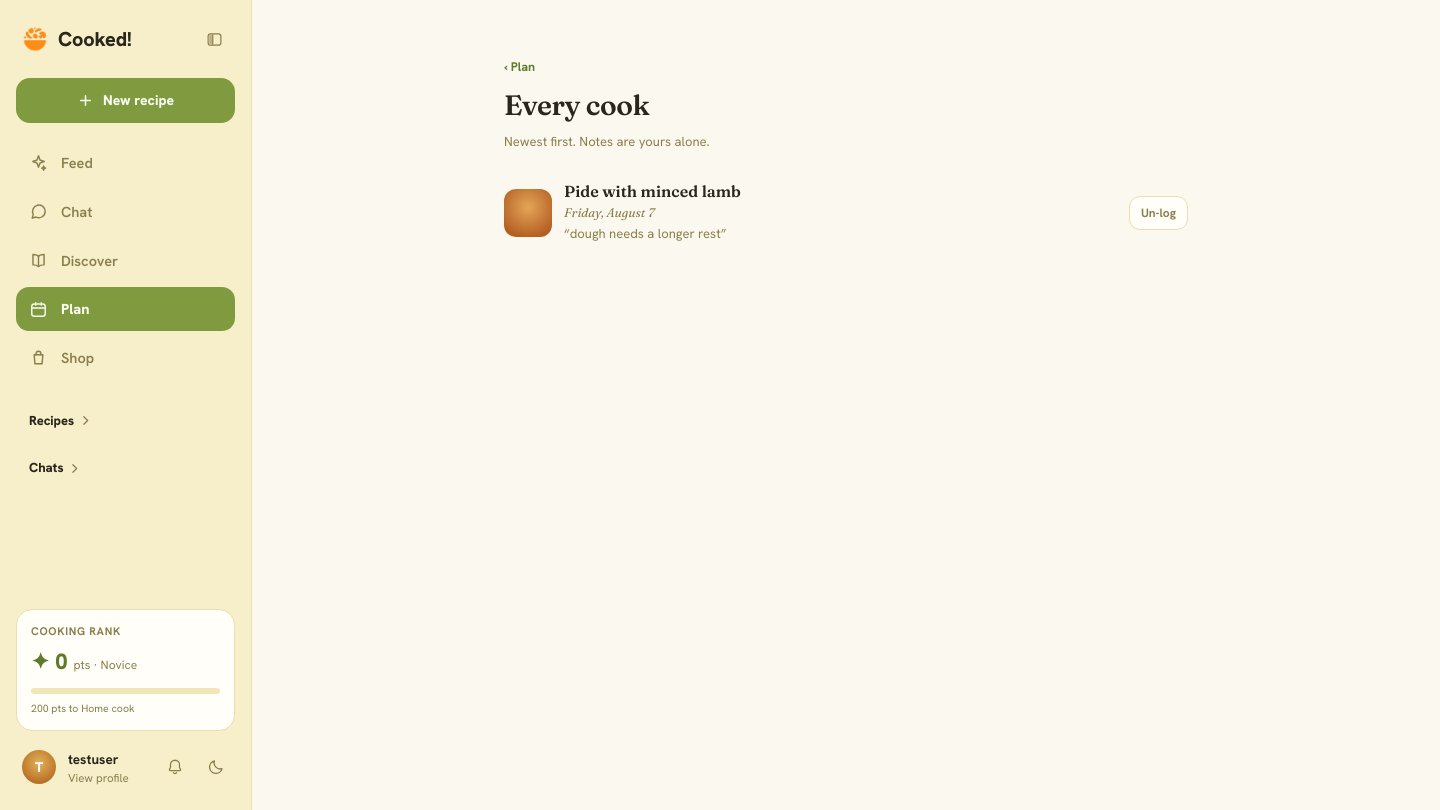
/plan/cooks › un-logging one cook › removes the annotated cook once the loss is confirmed
Click the button with aria-label "Un-log Pide".
click(1158, 213)  # box [1129, 196, 1188, 230]
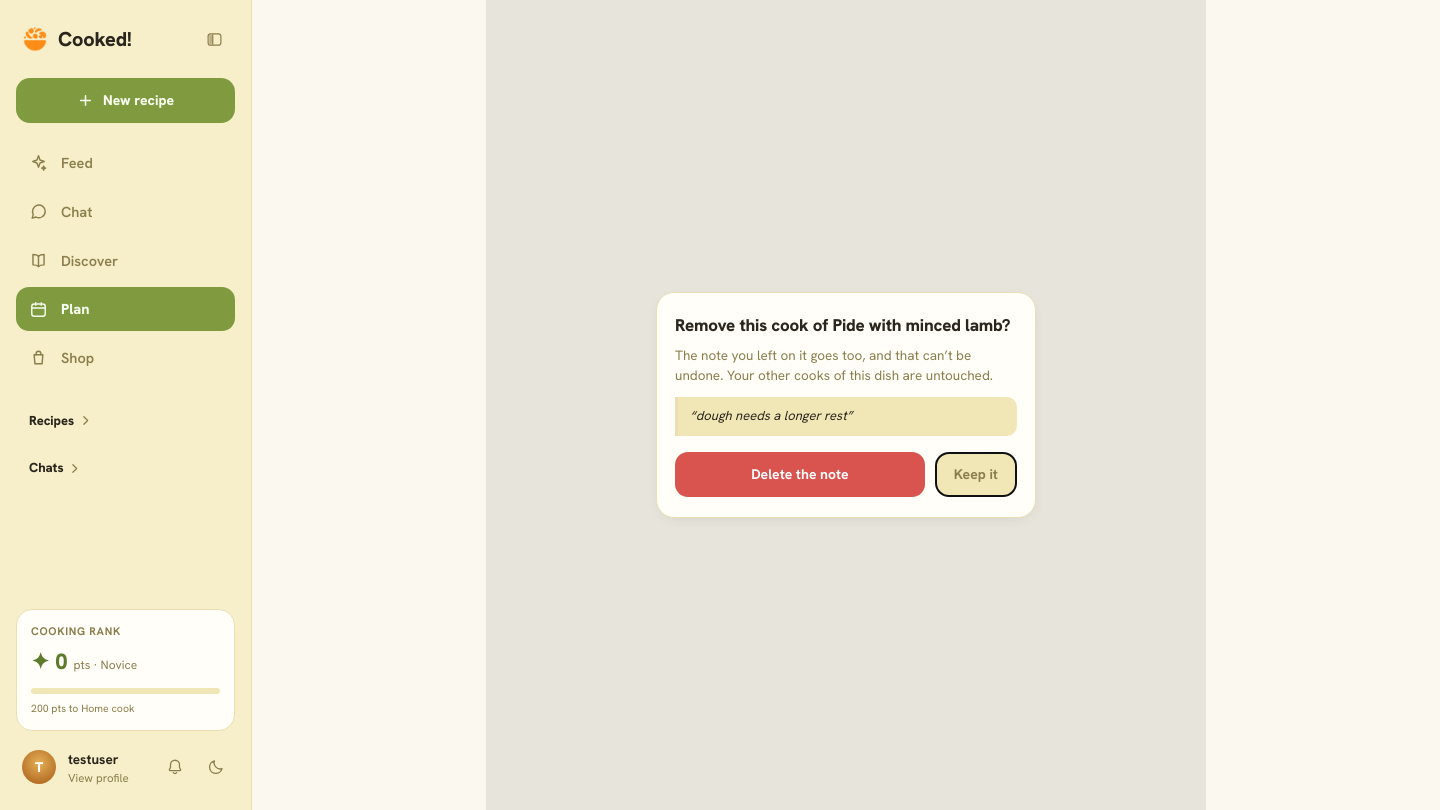
Click the button "Delete the note".
click(800, 474)  # box [675, 452, 925, 497]
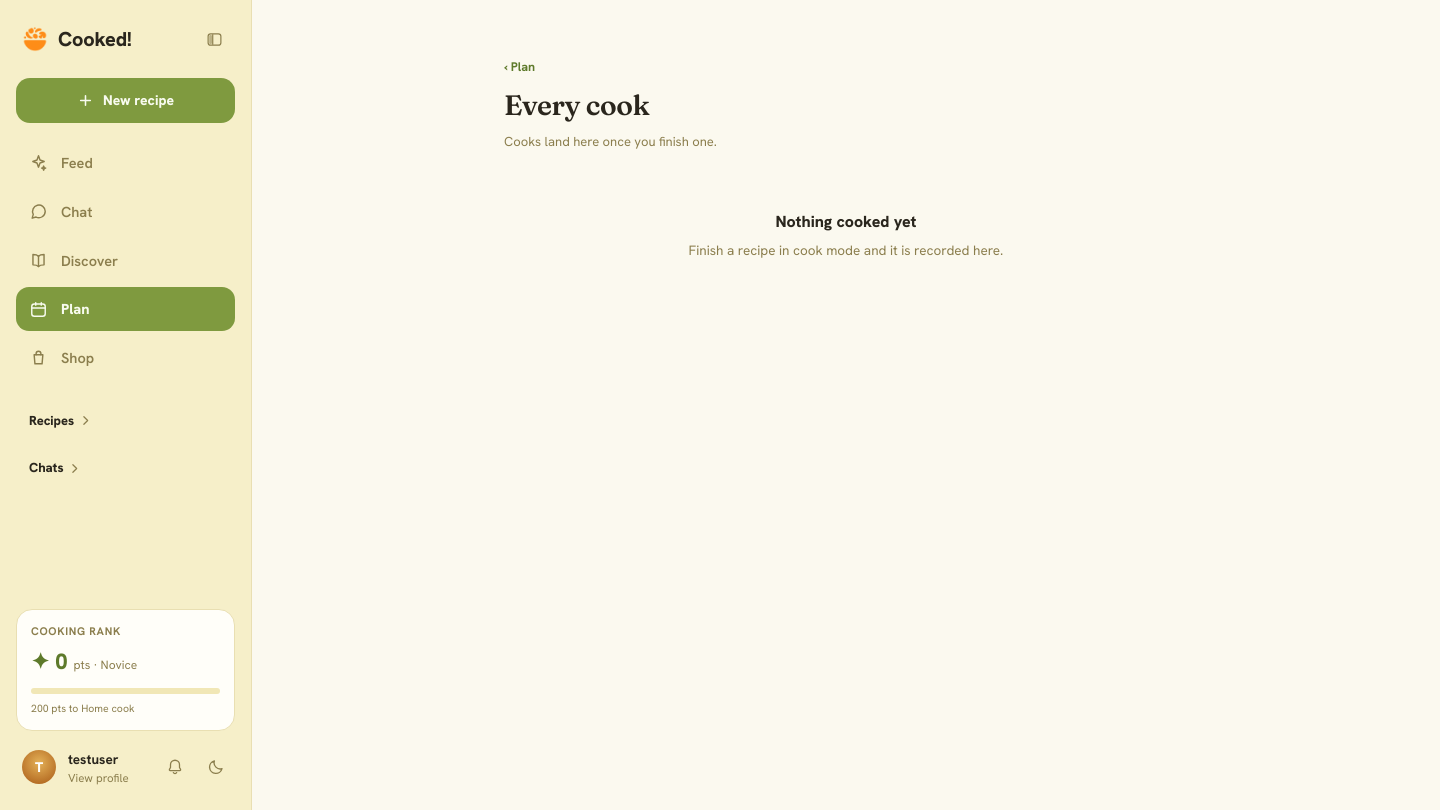
Check: the text "Nothing cooked yet" is shown, box [775, 210, 917, 232]
